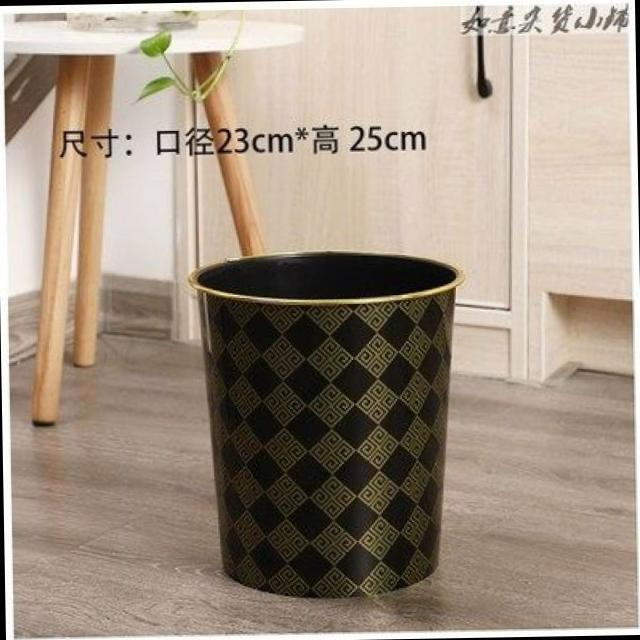dustbin: (179, 242, 474, 604)
